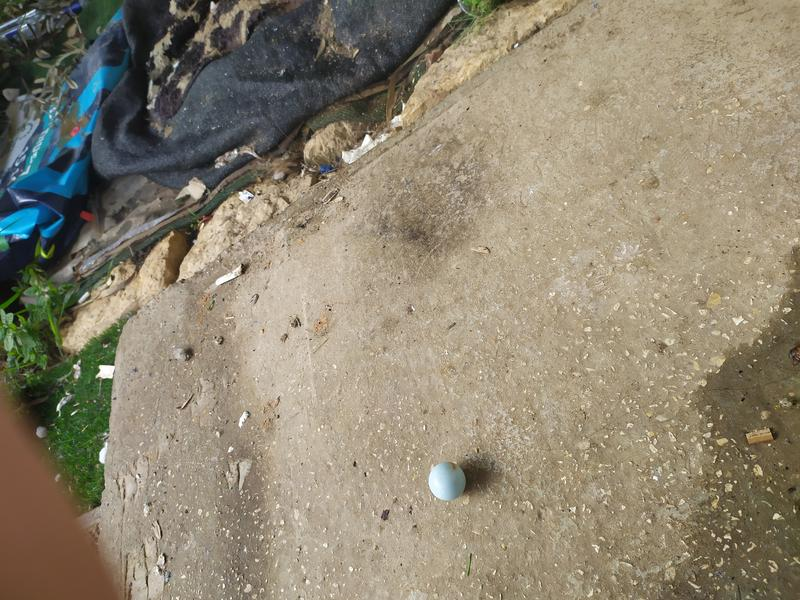Warning: (427, 459, 468, 503)
